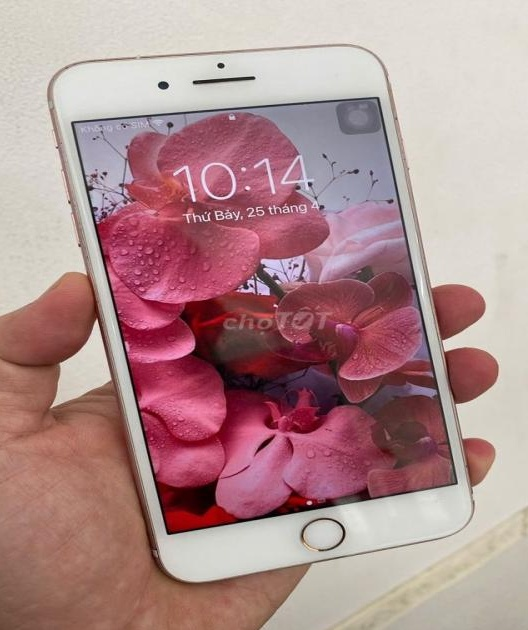scratch: (120, 50, 148, 64)
